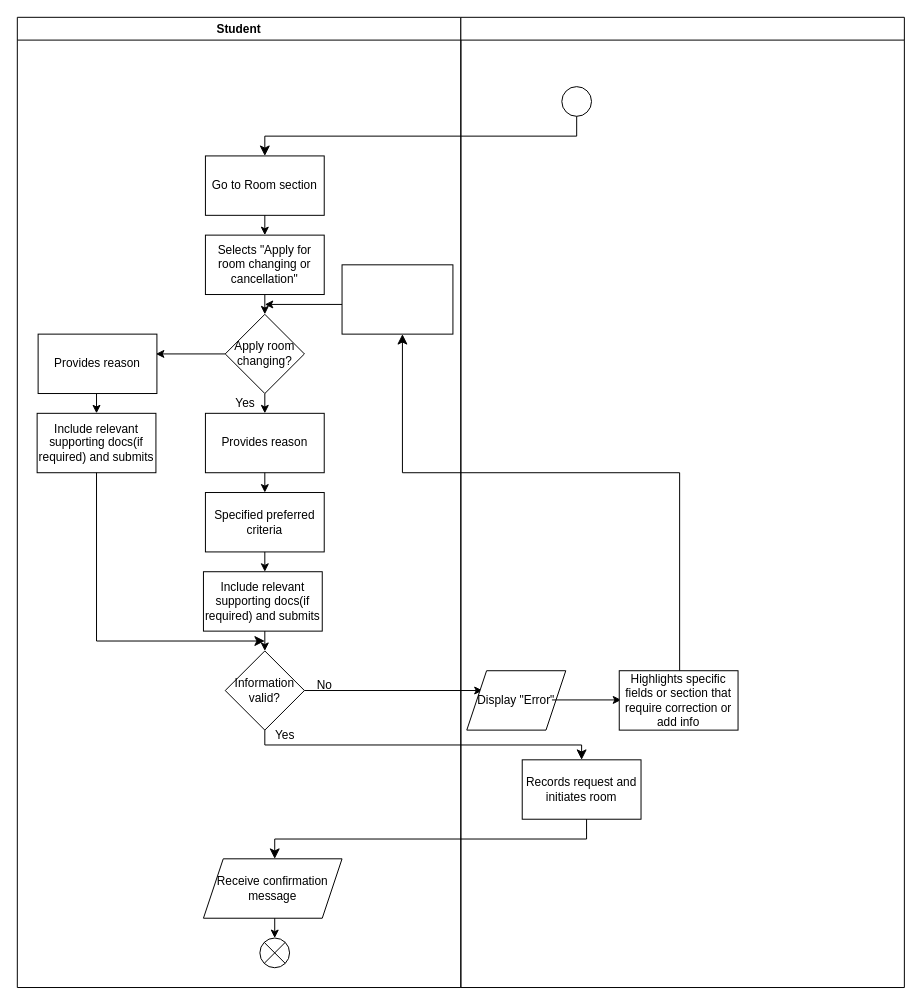
This 922x1005 diagram has some shape labels left out. Here are the shapes that lost their labels. From the top down, the centre of each, then its label:
At (x=397, y=299): "Corrects invalid or incomplete information and submits".
At (x=682, y=502): "System".
